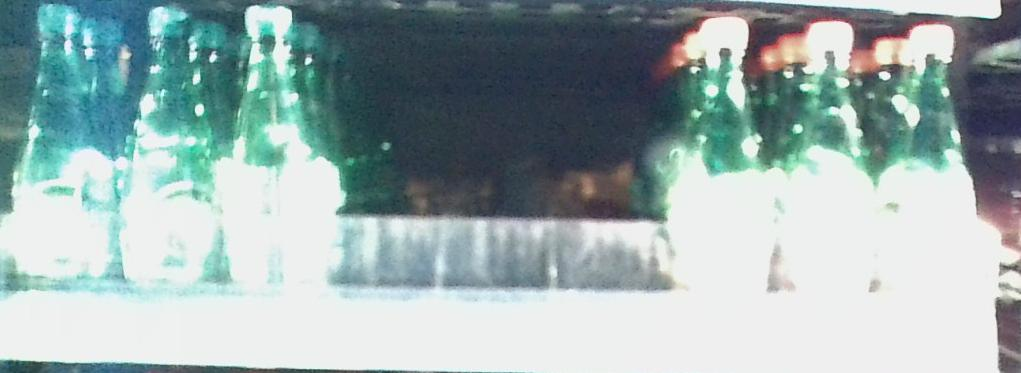bottle: (225, 7, 332, 296), (11, 6, 116, 286), (677, 7, 770, 302), (124, 5, 219, 292), (888, 24, 983, 300), (784, 21, 877, 296)
